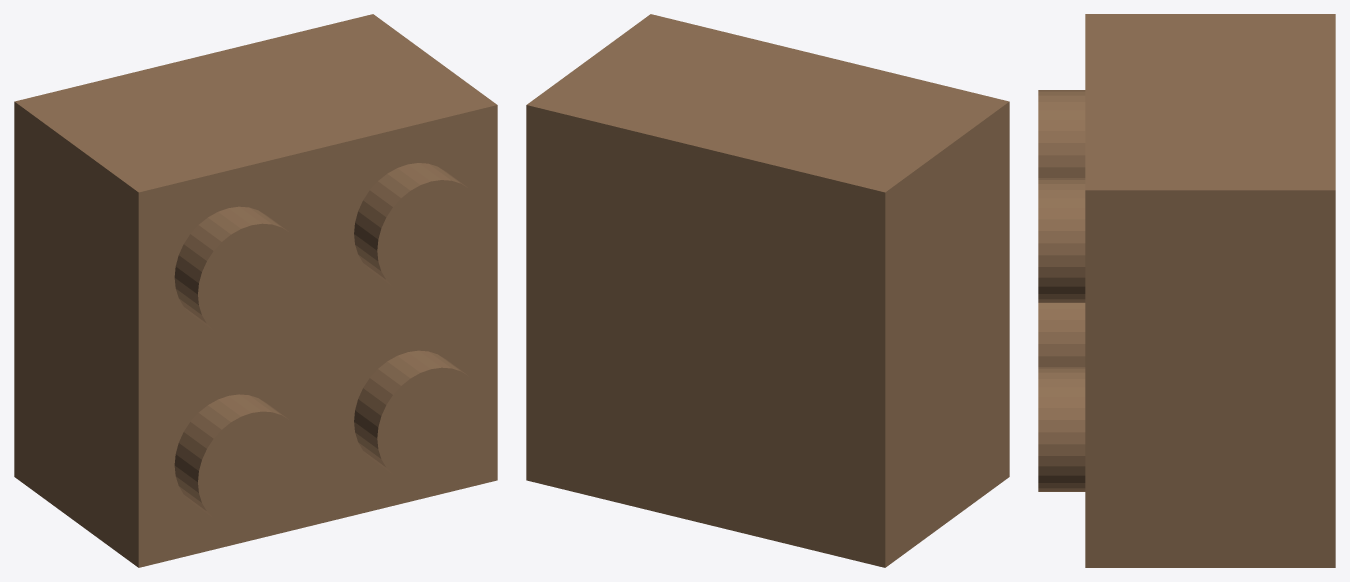
The model's file is brick_0.glb.
3 renders of one model, left to right at view 1: azimuth 30°, elevation 25°; view 2: azimuth 150°, elevation 25°; view 3: azimuth 270°, elevation 25°, orthographic.
Visible parts, largest first — view 1: world; view 2: world; view 3: world.
Boxes of the visible parts, box(x1,y1,x2,y2) form: world: box(14, 14, 497, 567); world: box(526, 14, 1009, 567); world: box(1038, 14, 1335, 567).
Bounding box in the file's own units: 16 × 16 × 11.4.
